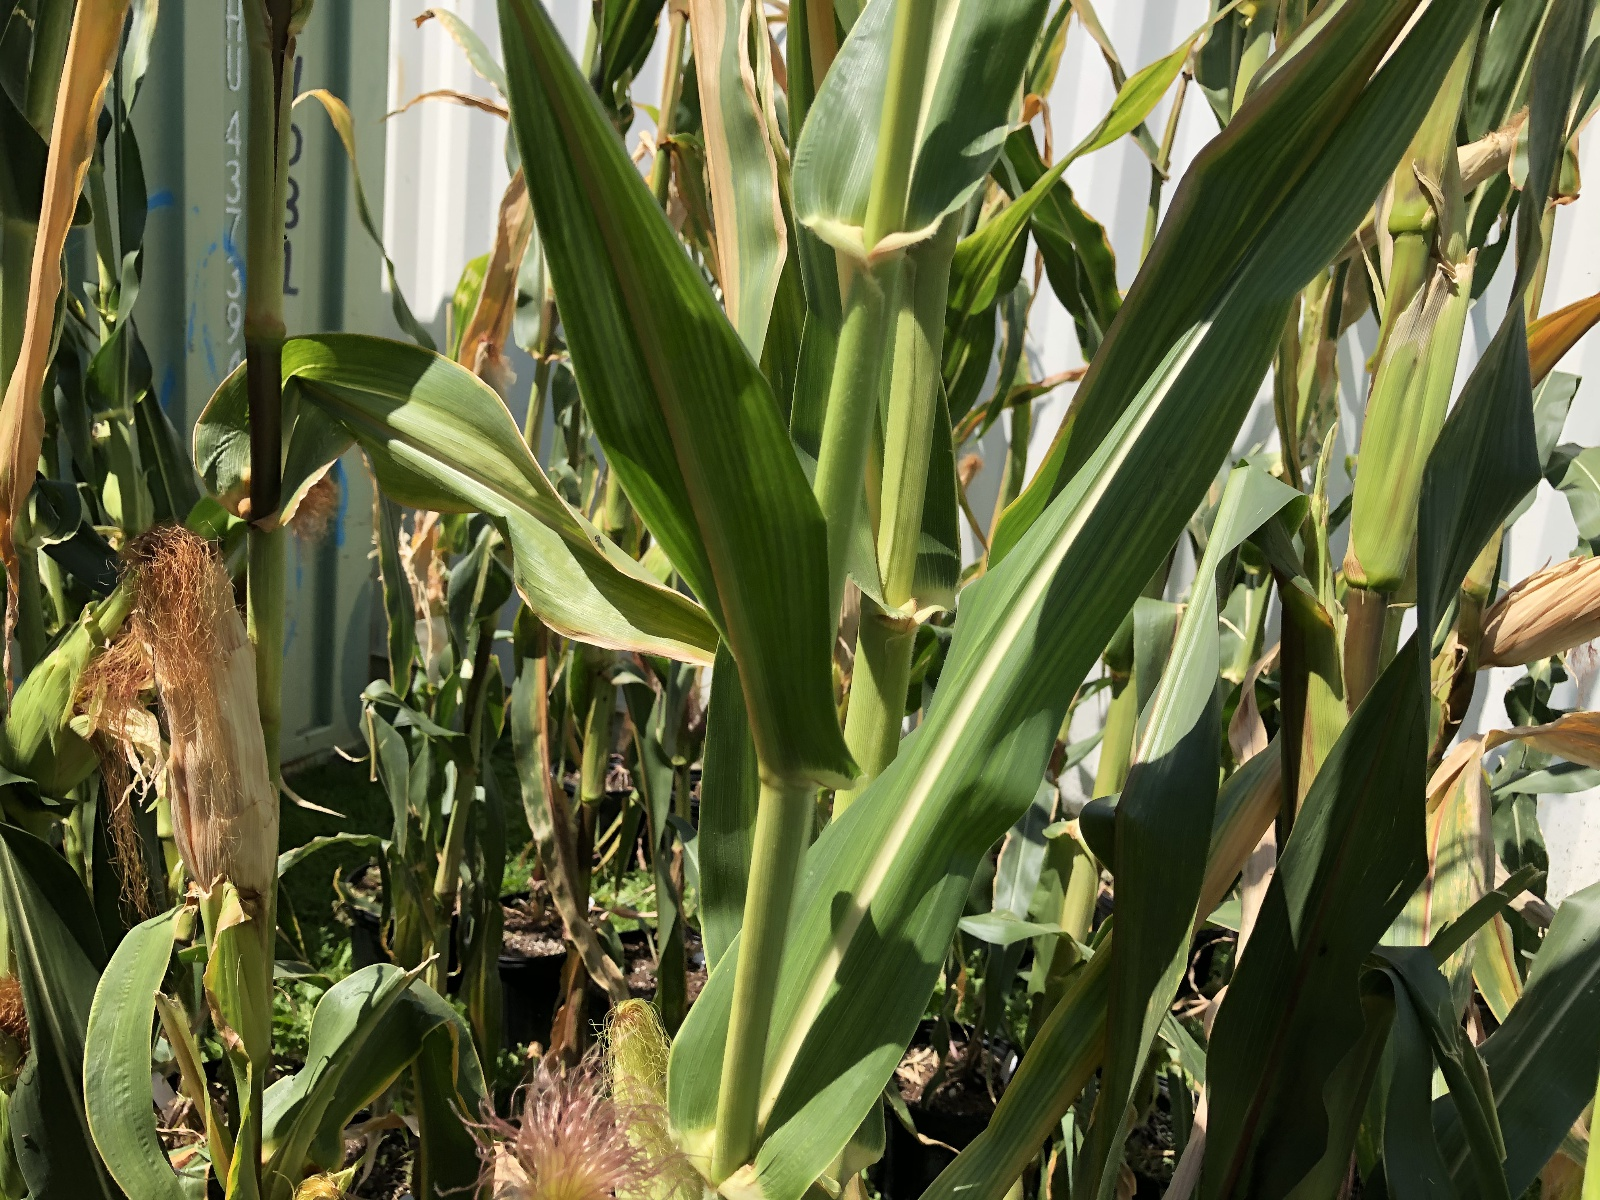ear: (113, 512, 305, 897), (1483, 541, 1600, 669)
